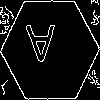A: (25, 25, 56, 71)
